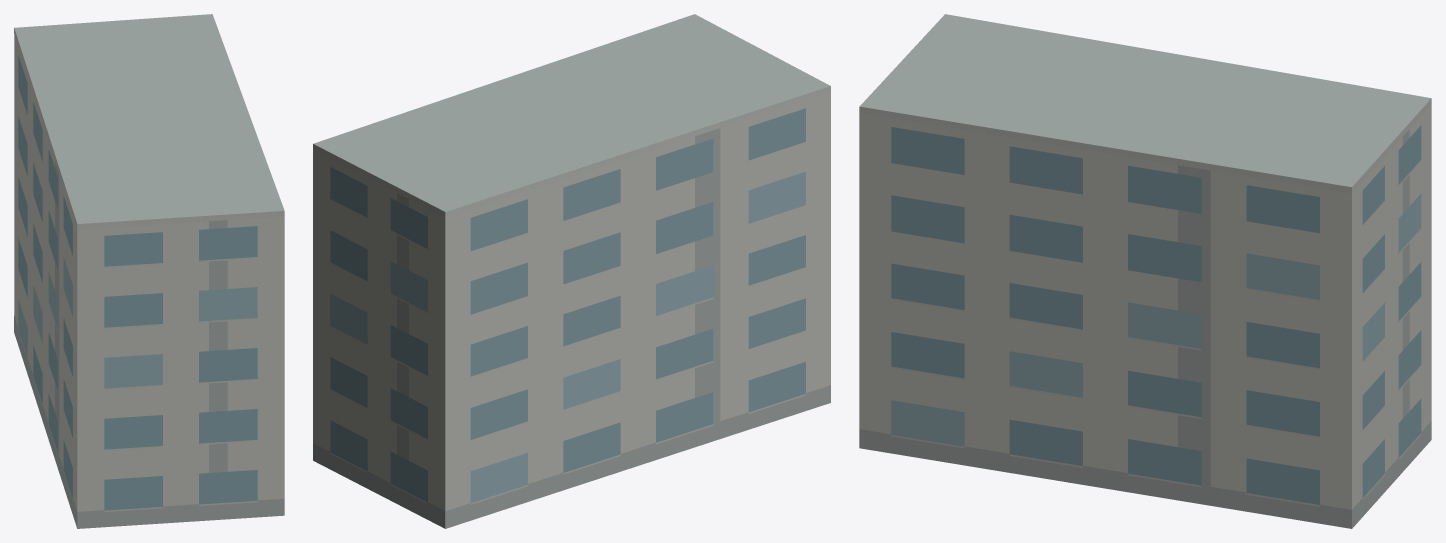
The model's file is survey-upis-32931929.glb.
3 renders of one model, left to right at view 1: azimuth 30°, elevation 25°; view 2: azimuth 150°, elevation 25°; view 3: azimuth 270°, elevation 25°, orthographic. The views are drawn at different scales.
Parts seen in each view (by area): view 1: survey-upis-32931929.tmp; view 2: survey-upis-32931929.tmp; view 3: survey-upis-32931929.tmp.
Part boxes in pixels (box(x1,y1,x2,y2)): survey-upis-32931929.tmp: box(14, 14, 284, 528); survey-upis-32931929.tmp: box(313, 14, 830, 528); survey-upis-32931929.tmp: box(859, 14, 1431, 528).
Bounding box in the file's own units: 14.18 × 13.03 × 19.78.
